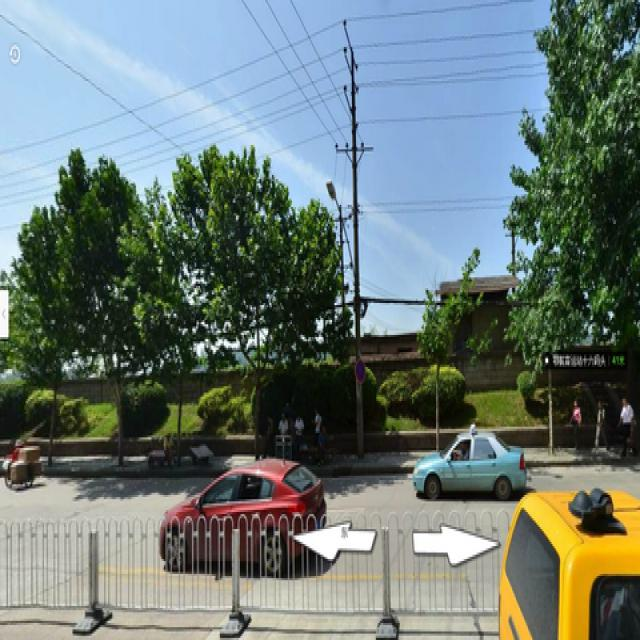meta: (540, 21, 631, 414), (184, 164, 304, 446), (68, 171, 160, 450)
